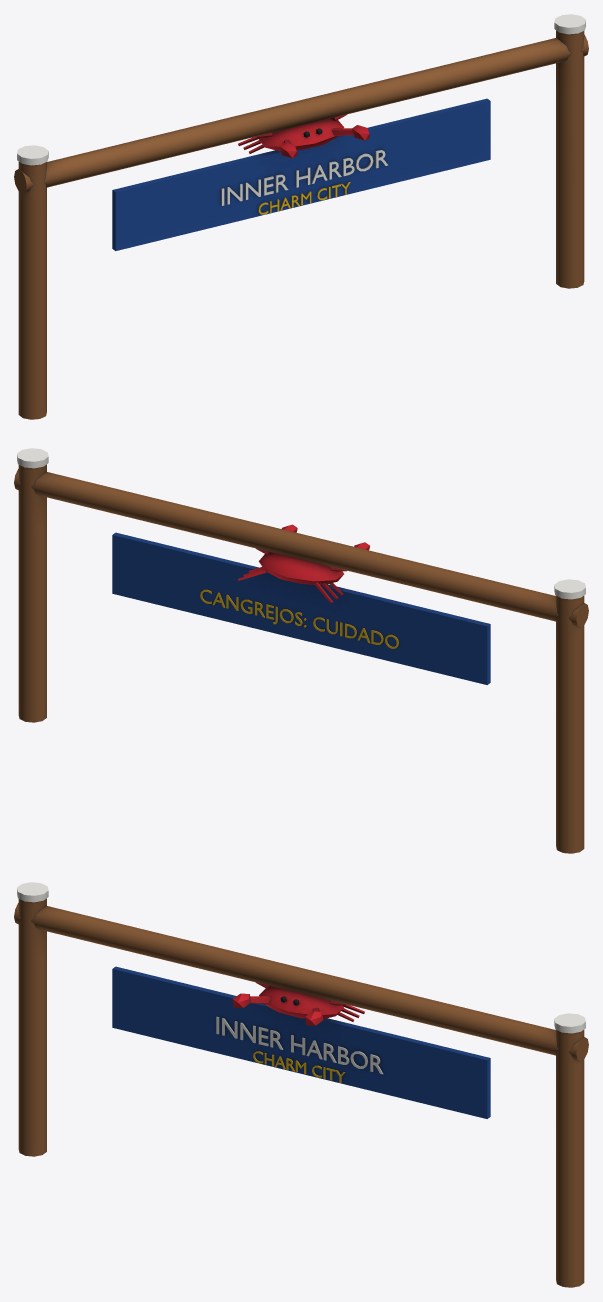
Rendered from arco_harbor.glb.
3 views of the same model, one above another, from view 1: azimuth 30°, elevation 25°; view 2: azimuth 150°, elevation 25°; view 3: azimuth 330°, elevation 25° (orthographic).
Visible parts, largest first — view 1: arco_harbor; view 2: arco_harbor; view 3: arco_harbor.
Part boxes in pixels (x1=…): arco_harbor: x1=14, y1=14, x2=588, y2=419; arco_harbor: x1=14, y1=448, x2=588, y2=853; arco_harbor: x1=14, y1=882, x2=588, y2=1287.
Size of the model in its own units: 18.06 by 8 by 2.56.
1 material, 1 textured.
